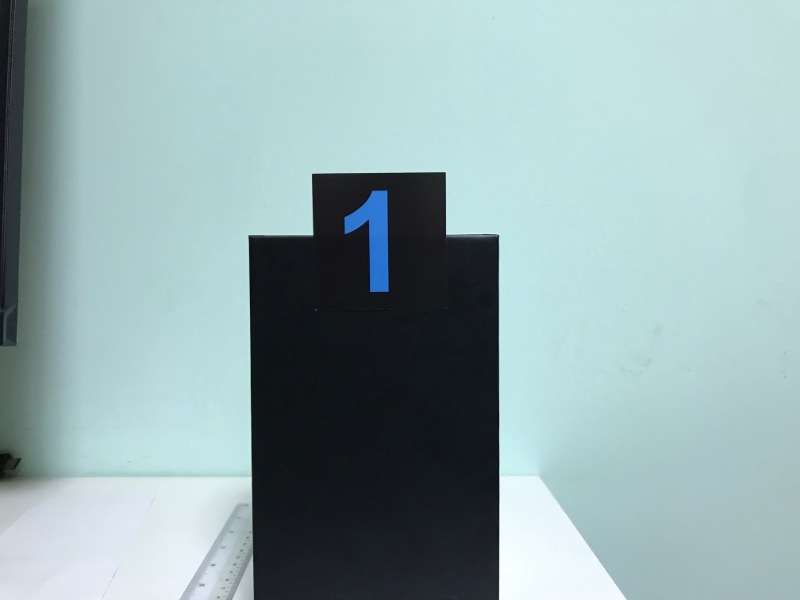One-6: (318, 176, 445, 307)
